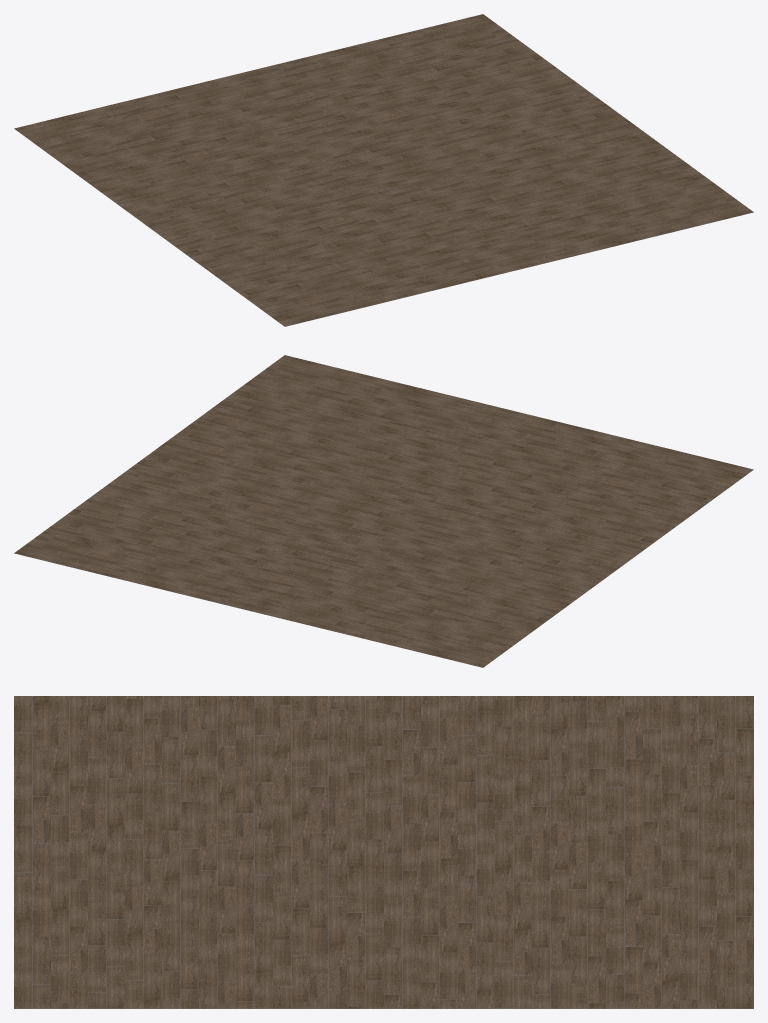
File: wood-brown-20x120.glb
3 views of the same model, one above another, from view 1: azimuth 30°, elevation 25°; view 2: azimuth 150°, elevation 25°; view 3: azimuth 270°, elevation 25° (orthographic). The views are drawn at different scales.
Visible parts, largest first — view 1: Wood Brown; view 2: Wood Brown; view 3: Wood Brown.
Part boxes in pixels (x1,y1,x2,y2): Wood Brown: [14, 14, 753, 326]; Wood Brown: [14, 355, 753, 667]; Wood Brown: [14, 696, 753, 1008].
Size of the model in its own units: 8 by 0.003 by 8.
2 materials, 1 textured.
